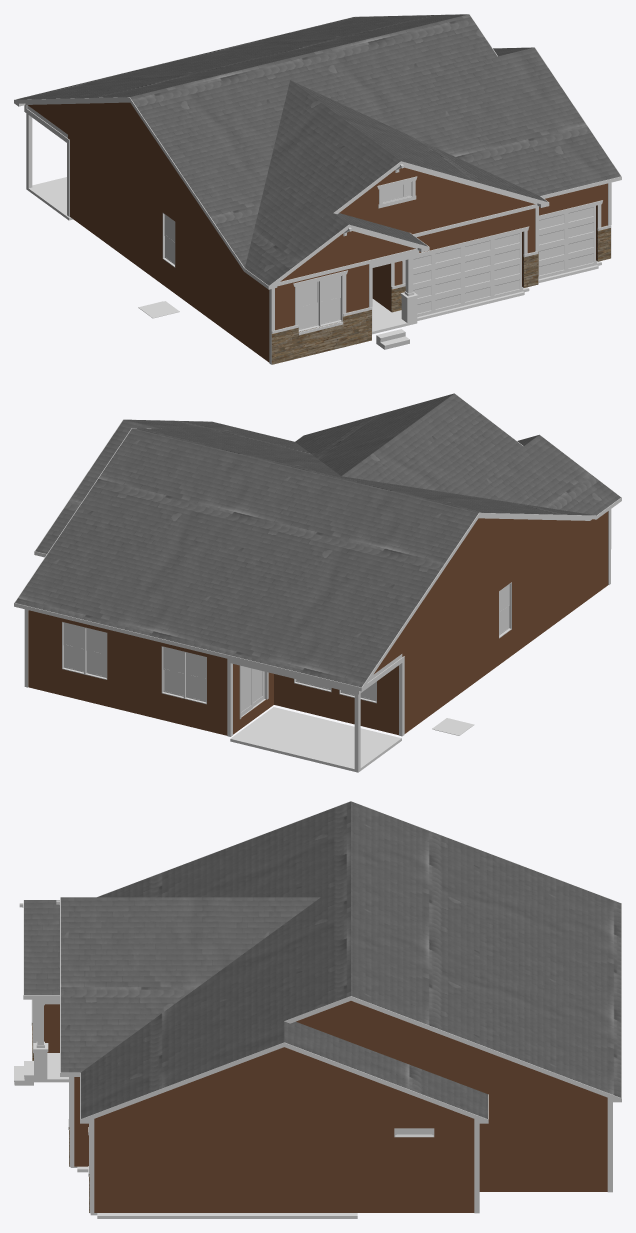
Rendered from 149-1697-dm-craftsman.glb.
3 renders of one model, top to bottom at view 1: azimuth 30°, elevation 25°; view 2: azimuth 150°, elevation 25°; view 3: azimuth 270°, elevation 25°, orthographic. The views are drawn at different scales.
Parts seen in each view (by area): view 1: Basic Roof Wood Rafter 4" - Asphalt Shingle - Insulated_869a, Basic Roof Wood Rafter 4" - Asphalt Shingle - Insulated_5491, Basic Wall BSB Exterior - Stud_5.5" - Sheathing_0.5" - _7fec, Basic Wall BSB Exterior - Stud_1.5" - Sheathing_0.5" - _bc6f, Traditional - BSB Exterior - Overhead Garage Door - Clo_f3dc, Basic Wall BSB Exterior - Stud_1.5" - Sheathing_0.5" - _97be, Basic Wall BSB Exterior - Stud_5.5" - Sheathing_0.5" - _f0b5, Fascia Fascia-Flat 1x6 w/12" Soffit Bd [4322694], Traditional - BSB Exterior - Overhead Garage Door - Clo_95fd, Basic Wall BSB Exterior - Stone Veneer_2" [4311706], Basic Wall BSB Exterior - Stud_3.5" - Sheathing_0.5" - _bc79, Basic Wall BSB Exterior - Stud_1.5" - Sheathing_0.5" - _2f2b (+20 smaller); view 2: Basic Roof Wood Rafter 4" - Asphalt Shingle - Insulated_869a, Basic Roof Wood Rafter 4" - Asphalt Shingle - Insulated_5491, Basic Wall BSB Exterior - Stud_5.5" - Sheathing_0.5" - _a904, Basic Wall BSB Exterior - Stud_5.5" - Sheathing_0.5" - _7fec, Basic Wall BSB Exterior - Stud_1.5" - Sheathing_0.5" - _bc6f, Floor BSB Concrete Slab - 4" - Slope Option [4257786], Basic Wall BSB Exterior - Stud_5.5" - Sheathing_0.5" - _f0b5, Basic Wall BSB Exterior - Stud_5.5" - Sheathing_0.5" - _3fe1, Fascia Fascia-Flat 1x6 w/12" Soffit Bd [4322694], Trim - Corner Boards Trim - Corner Boards [4317410], Basic Wall BSB Exterior - Stud_5.5" - Sheathing_0.5" - _ce92, BSB Exterior - SGD XO - 1-Lite 6068 [4256805] (+9 smaller); view 3: Basic Roof Wood Rafter 4" - Asphalt Shingle - Insulated_869a, Basic Roof Wood Rafter 4" - Asphalt Shingle - Insulated_5491, Basic Wall BSB Exterior - Stud_3.5" - Sheathing_0.5" - _f008, Basic Wall BSB Exterior - Stud_1.5" - Sheathing_0.5" - _af8c, Basic Wall BSB Exterior - Stud_5.5" - Sheathing_0.5" - _1d05, Basic Wall BSB Exterior - Stud_5.5" - Sheathing_0.5" - _181a, Basic Wall BSB Exterior - Stud_1.5" - Sheathing_0.5" - _2a52, Basic Wall BSB Exterior - Stud_3.5" - Sheathing_0.5" - _8349, Fascia Fascia-Flat 1x6 w/12" Soffit Bd [4322694], Trim - Corner Boards Trim - Corner Boards [4317410], Floor BSB Concrete Slab - 4" - Slope Option [4299503], Basic Wall BSB Exterior - Stud_3.5" - Sheathing_0.5" - _12d2 (+2 smaller).
Part boxes in pixels (x1,y1,x2,y2): Basic Roof Wood Rafter 4" - Asphalt Shingle - Insulated_869a: (16, 14, 620, 267); Basic Roof Wood Rafter 4" - Asphalt Shingle - Insulated_5491: (245, 80, 547, 285); Basic Wall BSB Exterior - Stud_5.5" - Sheathing_0.5" - _7fec: (146, 192, 258, 354); Basic Wall BSB Exterior - Stud_1.5" - Sheathing_0.5" - _bc6f: (28, 102, 232, 254); Traditional - BSB Exterior - Overhead Garage Door - Clo_f3dc: (413, 232, 523, 316); Basic Wall BSB Exterior - Stud_1.5" - Sheathing_0.5" - _97be: (339, 167, 534, 234); Basic Wall BSB Exterior - Stud_5.5" - Sheathing_0.5" - _f0b5: (68, 135, 130, 260); Fascia Fascia-Flat 1x6 w/12" Soffit Bd [4322694]: (15, 14, 621, 289); Traditional - BSB Exterior - Overhead Garage Door - Clo_95fd: (538, 205, 596, 278); Basic Wall BSB Exterior - Stone Veneer_2" [4311706]: (271, 307, 371, 364); Basic Wall BSB Exterior - Stud_3.5" - Sheathing_0.5" - _bc79: (394, 208, 535, 286); Basic Wall BSB Exterior - Stud_1.5" - Sheathing_0.5" - _2f2b: (280, 231, 415, 281); Basic Roof Wood Rafter 4" - Asphalt Shingle - Insulated_869a: (15, 419, 593, 687); Basic Roof Wood Rafter 4" - Asphalt Shingle - Insulated_5491: (295, 393, 620, 515); Basic Wall BSB Exterior - Stud_5.5" - Sheathing_0.5" - _a904: (28, 610, 227, 735); Basic Wall BSB Exterior - Stud_5.5" - Sheathing_0.5" - _7fec: (482, 519, 596, 676); Basic Wall BSB Exterior - Stud_1.5" - Sheathing_0.5" - _bc6f: (374, 518, 583, 673); Floor BSB Concrete Slab - 4" - Slope Option [4257786]: (230, 707, 401, 772); Basic Wall BSB Exterior - Stud_5.5" - Sheathing_0.5" - _f0b5: (397, 607, 465, 733); Basic Wall BSB Exterior - Stud_5.5" - Sheathing_0.5" - _3fe1: (274, 666, 398, 735); Fascia Fascia-Flat 1x6 w/12" Soffit Bd [4322694]: (14, 393, 621, 691); Trim - Corner Boards Trim - Corner Boards [4317410]: (24, 509, 611, 736); Basic Wall BSB Exterior - Stud_5.5" - Sheathing_0.5" - _ce92: (466, 595, 483, 688); BSB Exterior - SGD XO - 1-Lite 6068 [4256805]: (239, 665, 268, 719); Basic Roof Wood Rafter 4" - Asphalt Shingle - Insulated_869a: (80, 801, 621, 1118); Basic Roof Wood Rafter 4" - Asphalt Shingle - Insulated_5491: (24, 897, 320, 1072); Basic Wall BSB Exterior - Stud_3.5" - Sheathing_0.5" - _f008: (191, 1118, 359, 1212); Basic Wall BSB Exterior - Stud_1.5" - Sheathing_0.5" - _af8c: (96, 1047, 471, 1118); Basic Wall BSB Exterior - Stud_5.5" - Sheathing_0.5" - _1d05: (479, 1097, 607, 1191); Basic Wall BSB Exterior - Stud_5.5" - Sheathing_0.5" - _181a: (360, 1118, 474, 1212); Basic Wall BSB Exterior - Stud_1.5" - Sheathing_0.5" - _2a52: (296, 1001, 605, 1096); Basic Wall BSB Exterior - Stud_3.5" - Sheathing_0.5" - _8349: (94, 1118, 190, 1212); Fascia Fascia-Flat 1x6 w/12" Soffit Bd [4322694]: (23, 801, 621, 1119); Trim - Corner Boards Trim - Corner Boards [4317410]: (32, 1004, 612, 1213); Floor BSB Concrete Slab - 4" - Slope Option [4299503]: (70, 1166, 357, 1218); Basic Wall BSB Exterior - Stud_3.5" - Sheathing_0.5" - _12d2: (74, 1077, 88, 1166).
Bounding box in the file's own units: 15.58 × 8.6 × 18.51.
Materials: 3 (2 with a texture image).
